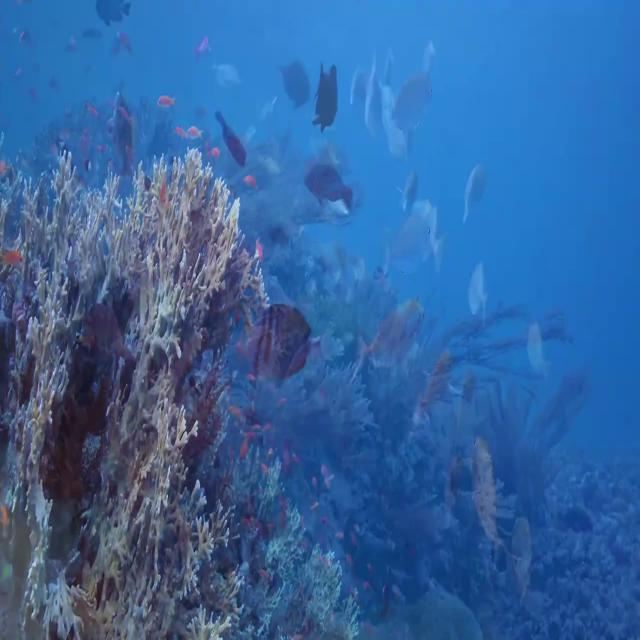fish: (225, 295, 314, 397), (345, 285, 433, 378), (201, 104, 255, 167), (456, 153, 496, 237), (525, 307, 563, 394), (305, 159, 361, 218), (107, 82, 141, 173), (463, 255, 496, 335), (316, 56, 348, 135), (274, 46, 310, 116), (90, 0, 132, 29)
